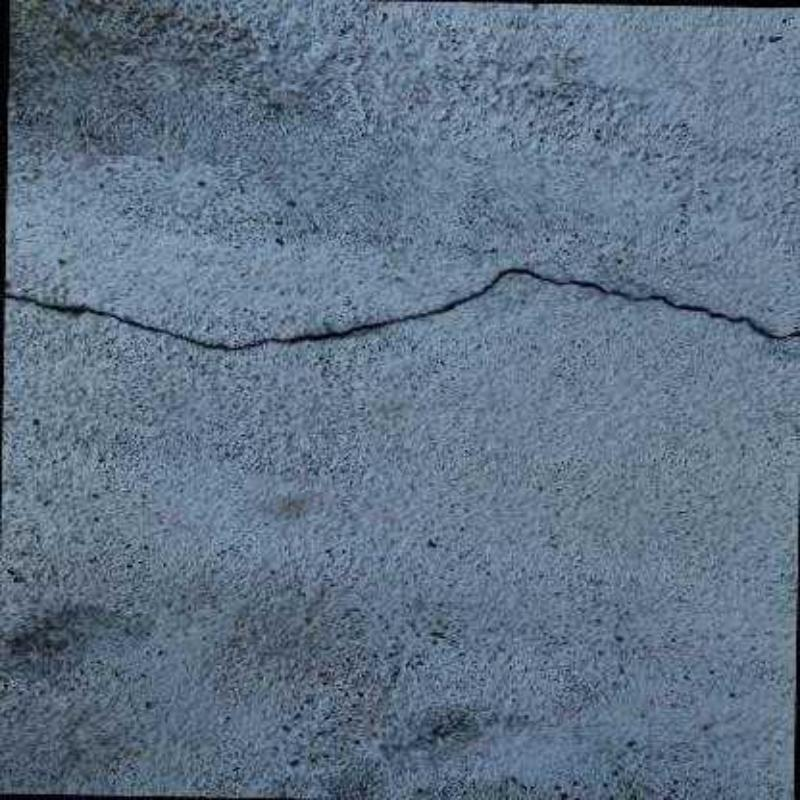pothole: (2, 268, 800, 351)
